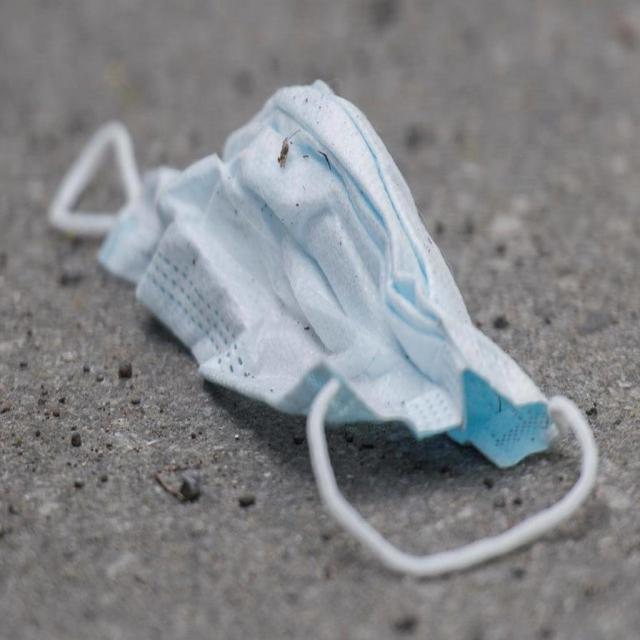face mask: (47, 80, 607, 568)
